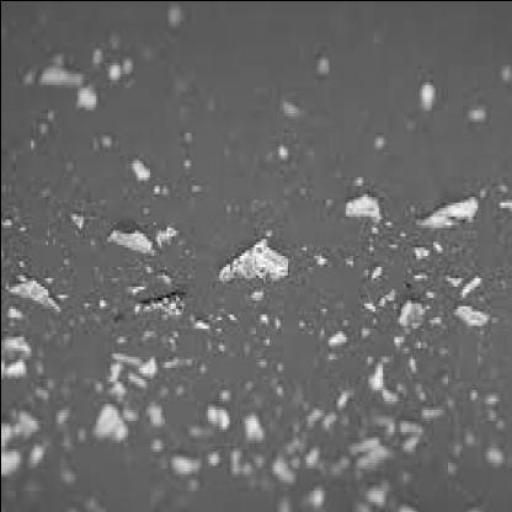glass: (213, 238, 285, 285), (417, 191, 475, 235), (124, 291, 181, 333), (7, 272, 56, 314), (101, 221, 153, 258), (341, 187, 391, 224), (348, 434, 386, 473), (90, 406, 122, 451), (35, 65, 93, 89), (358, 408, 400, 440), (0, 408, 36, 442), (393, 296, 423, 333), (0, 341, 28, 378), (453, 262, 480, 300), (238, 405, 263, 445), (358, 479, 390, 506), (0, 439, 21, 479), (455, 305, 482, 333), (264, 459, 286, 490), (417, 84, 437, 118), (162, 456, 191, 478), (150, 230, 176, 252), (154, 264, 180, 286), (160, 355, 193, 372), (365, 355, 378, 395), (101, 364, 123, 386), (18, 448, 37, 473), (207, 410, 225, 436), (400, 426, 417, 453), (324, 331, 343, 355), (76, 90, 95, 112), (50, 406, 69, 428), (114, 350, 140, 366), (66, 207, 82, 232), (56, 434, 74, 456), (300, 487, 318, 509), (162, 3, 179, 25), (129, 168, 147, 188), (127, 372, 145, 392), (6, 302, 22, 324), (58, 464, 74, 486), (73, 423, 86, 450), (302, 406, 316, 431), (153, 182, 171, 201), (117, 56, 127, 87), (484, 451, 499, 470), (477, 392, 497, 406), (464, 428, 478, 448), (254, 445, 268, 465), (147, 406, 158, 431), (419, 406, 438, 420), (319, 412, 331, 434), (497, 67, 510, 87), (426, 243, 439, 263), (286, 434, 302, 450), (101, 67, 113, 87), (374, 294, 389, 310), (441, 462, 456, 478), (464, 107, 476, 126), (127, 283, 139, 302), (410, 266, 422, 285), (302, 448, 312, 470), (138, 366, 150, 384), (360, 299, 374, 314), (488, 414, 503, 428), (203, 450, 214, 468), (410, 248, 422, 264), (225, 451, 233, 475), (214, 389, 225, 406), (147, 442, 158, 459), (497, 204, 510, 218), (331, 400, 341, 417), (116, 338, 130, 350), (121, 411, 134, 422), (378, 392, 388, 406), (238, 470, 248, 484), (106, 392, 118, 403), (394, 384, 402, 400), (433, 380, 443, 392), (443, 274, 451, 288), (249, 291, 259, 302), (268, 322, 278, 333), (494, 188, 504, 198), (465, 392, 473, 403), (260, 230, 270, 238), (88, 59, 98, 67), (366, 274, 376, 282), (190, 431, 200, 439), (254, 319, 264, 327), (416, 386, 420, 405), (289, 454, 296, 464), (192, 328, 203, 332), (453, 451, 458, 459)
